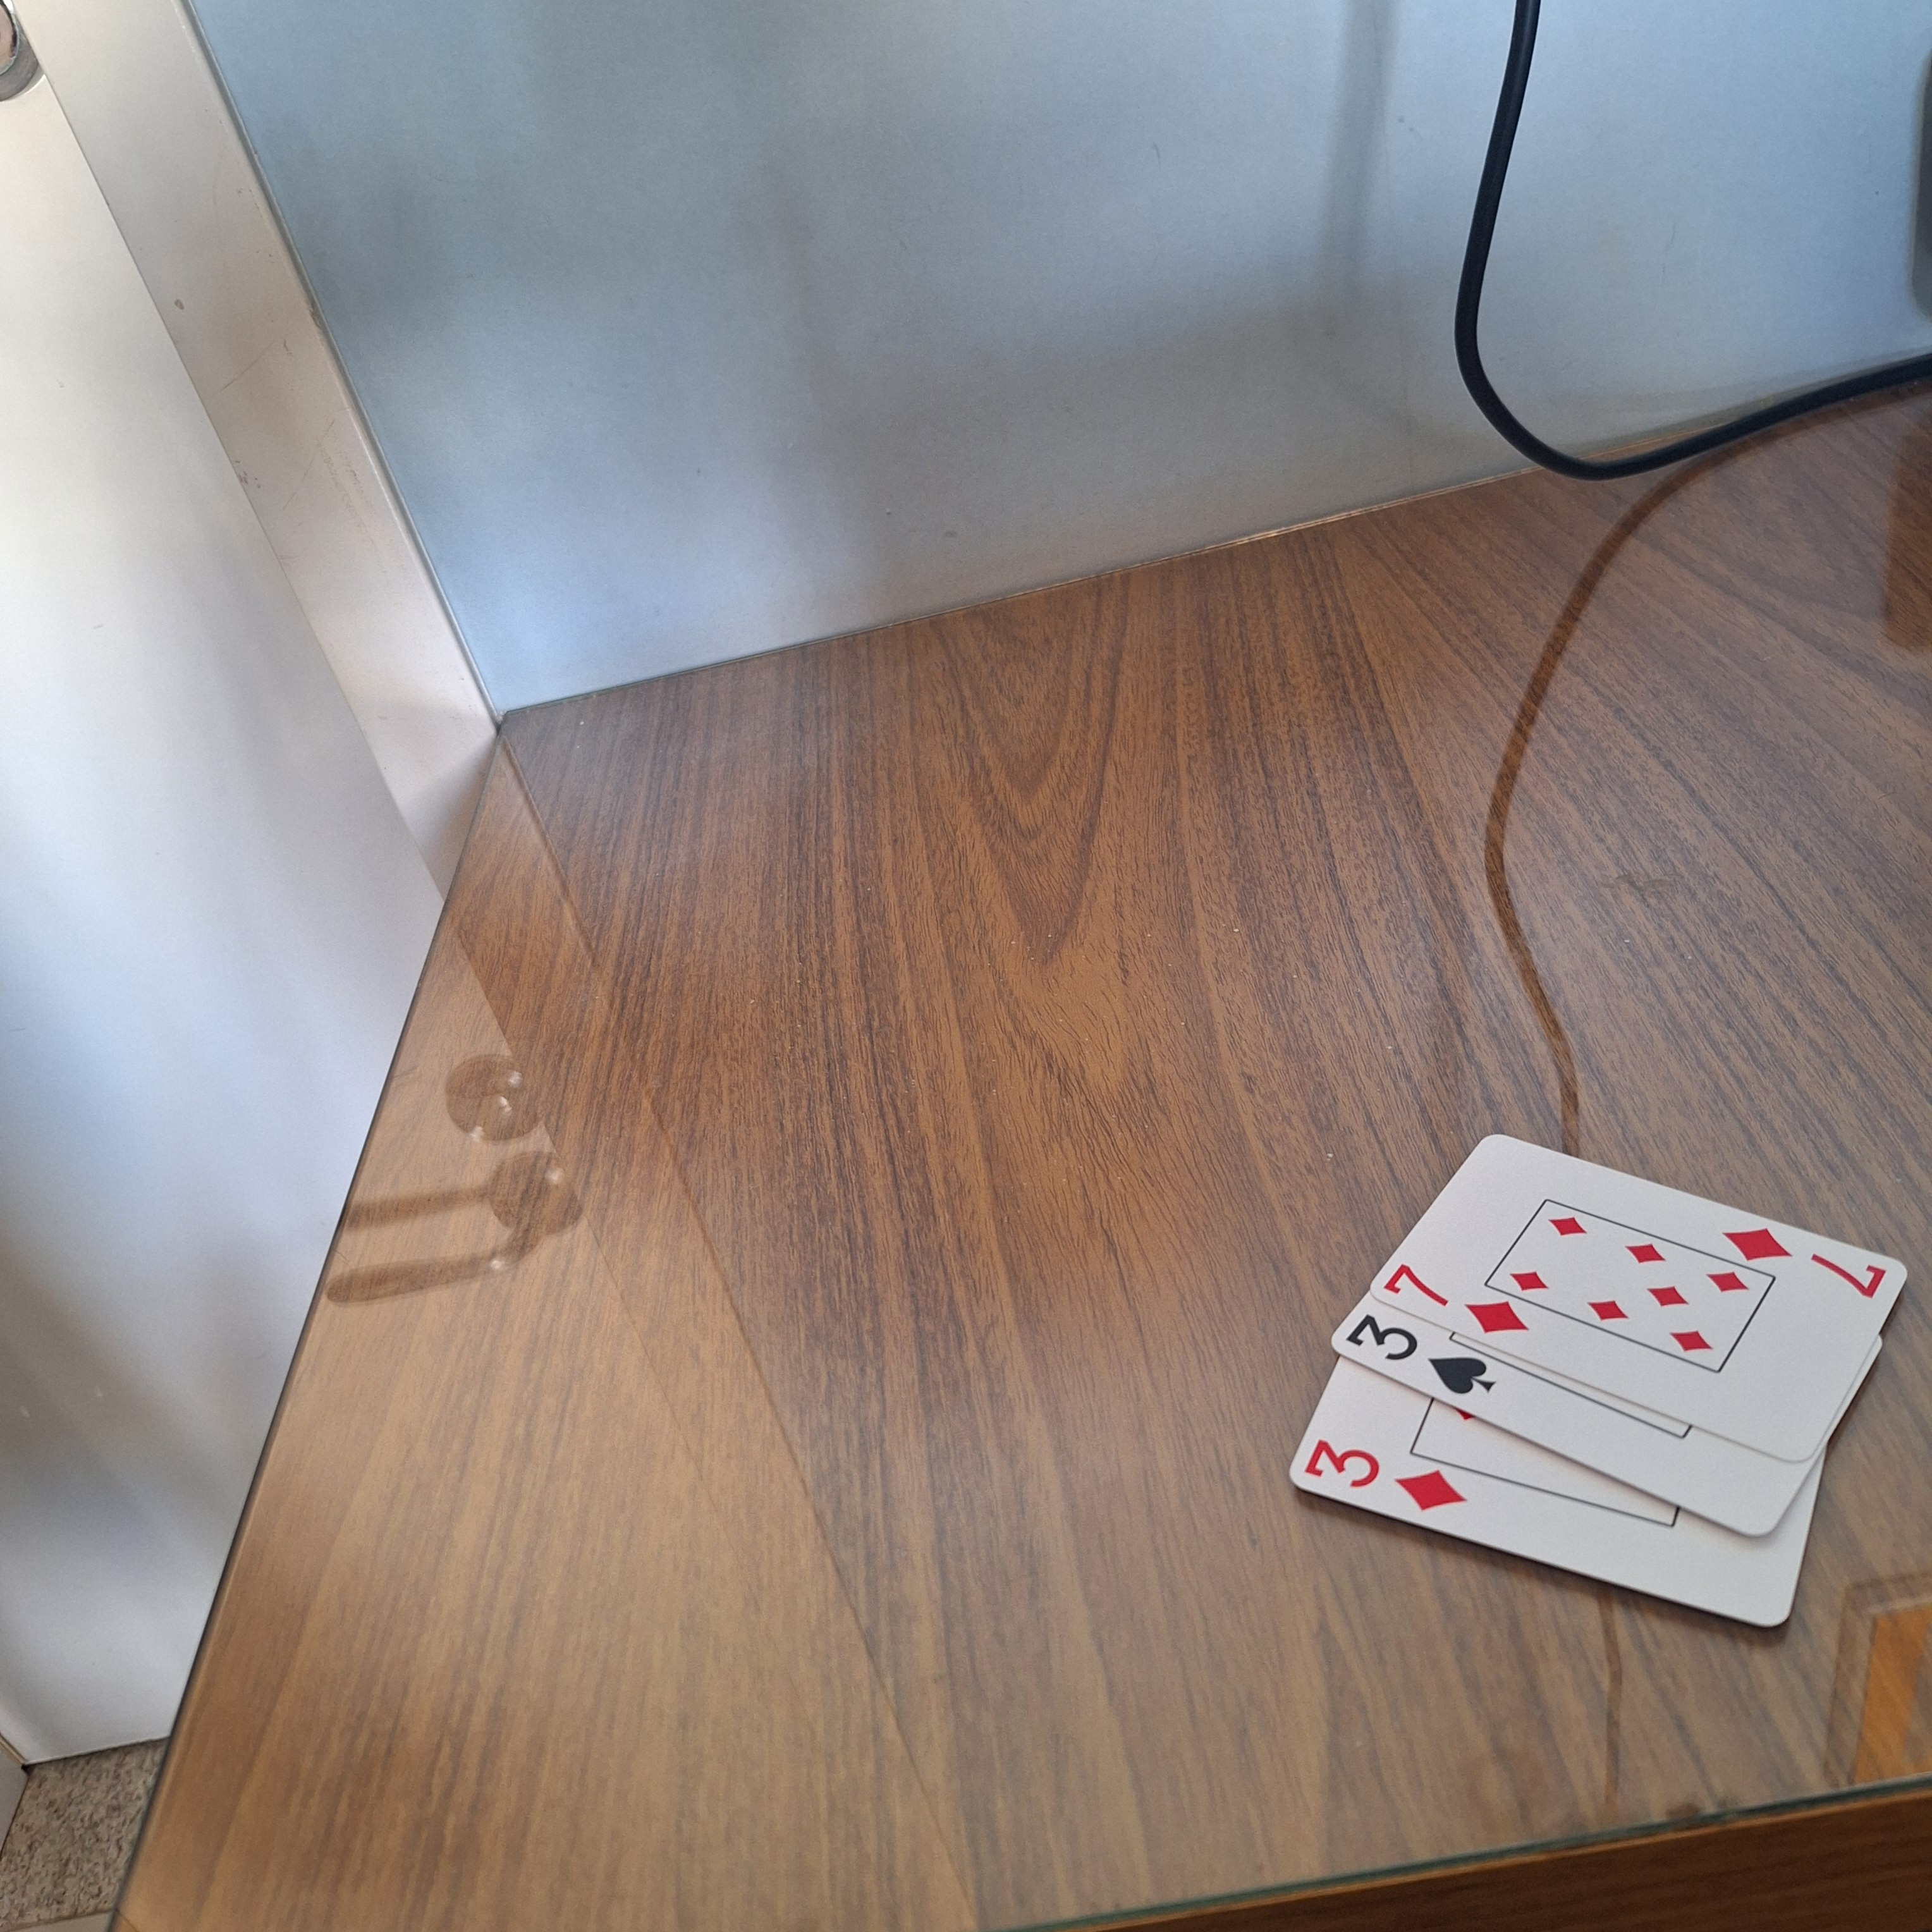3E: (1338, 1313, 1497, 1398)
3O: (1290, 1426, 1472, 1527)
7O: (1720, 1217, 1890, 1302), (1380, 1258, 1529, 1336)
